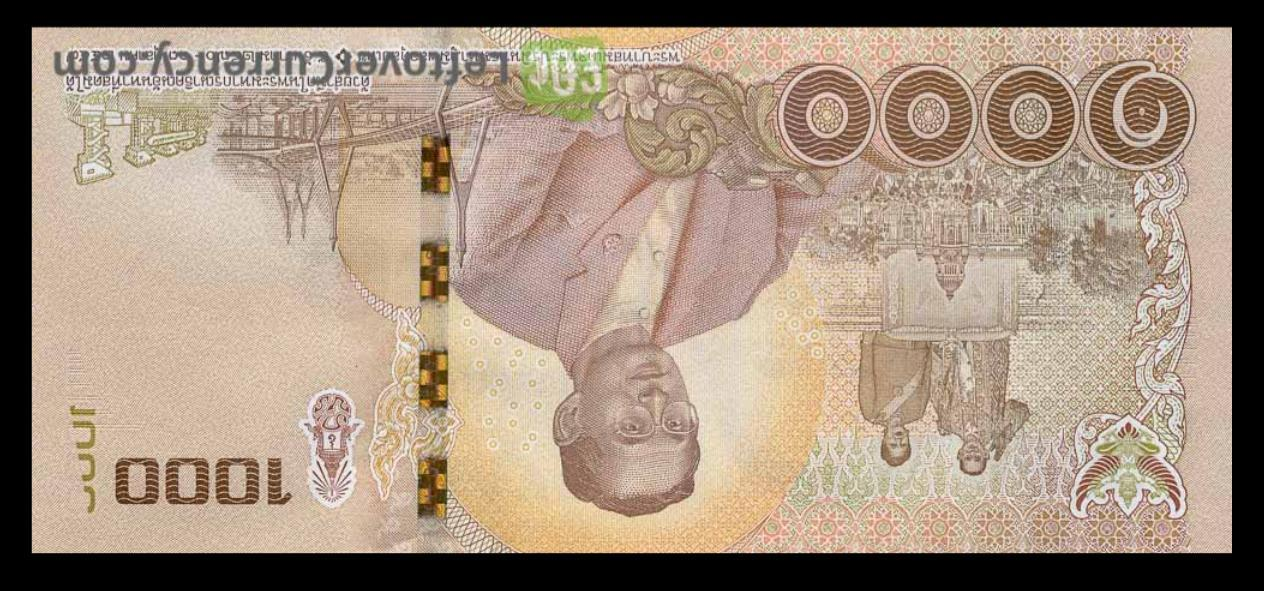1000BahtTai: (36, 30, 1231, 553)
